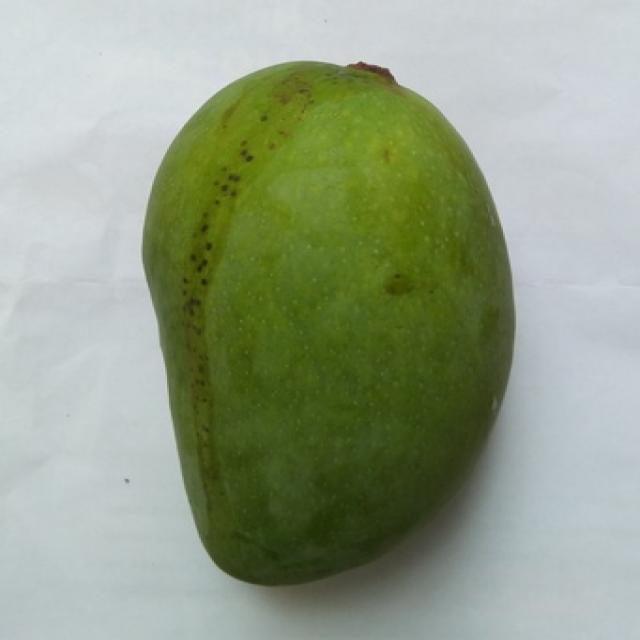Mango: (143, 64, 512, 582)
